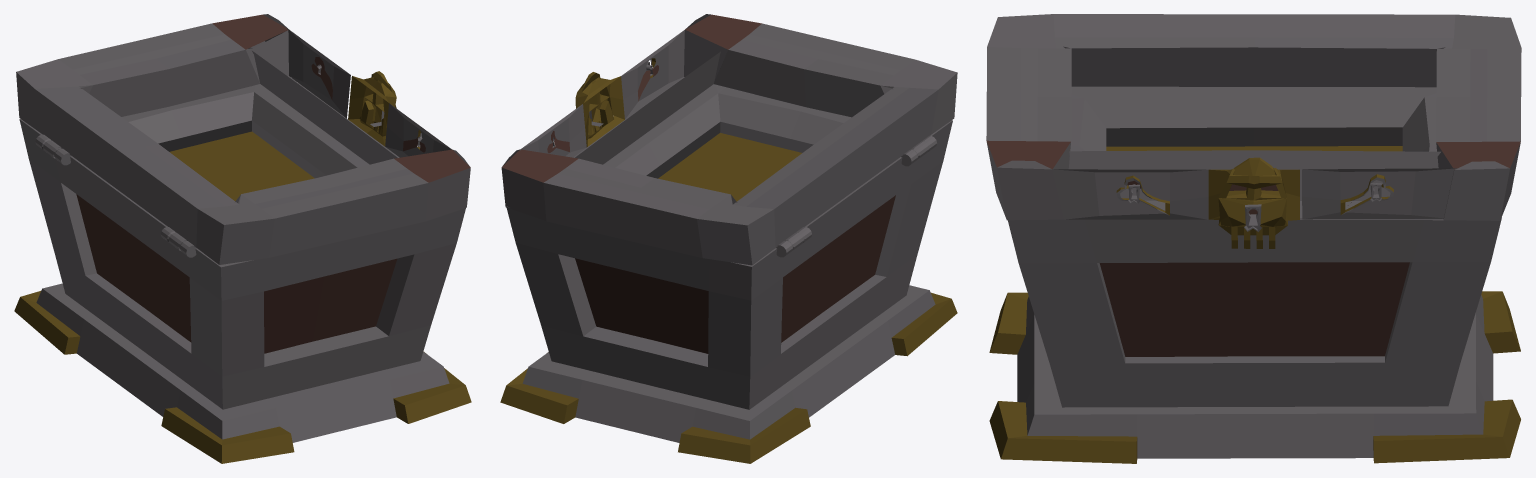
The model's file is bauParteDeBaixo.fbx.
3 views of the same model, side by side, from view 1: azimuth 30°, elevation 25°; view 2: azimuth 150°, elevation 25°; view 3: azimuth 270°, elevation 25° (orthographic). The views are drawn at different scales.
Visible parts, largest first — view 1: tampabau; view 2: tampabau; view 3: tampabau.
Part boxes in pixels (x1=…): tampabau: x1=14, y1=14, x2=471, y2=463; tampabau: x1=500, y1=14, x2=957, y2=463; tampabau: x1=986, y1=14, x2=1521, y2=463.
Size of the model in its own units: 63.79 by 55.62 by 86.42.
